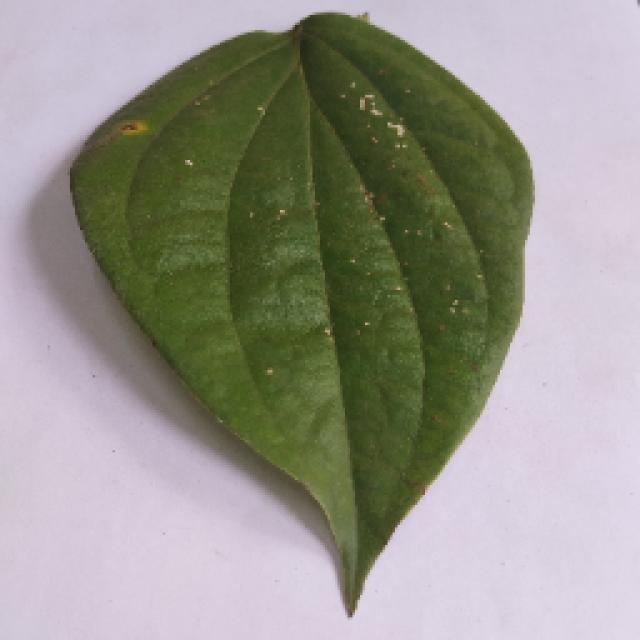pollu-disease: (38, 22, 552, 618)
